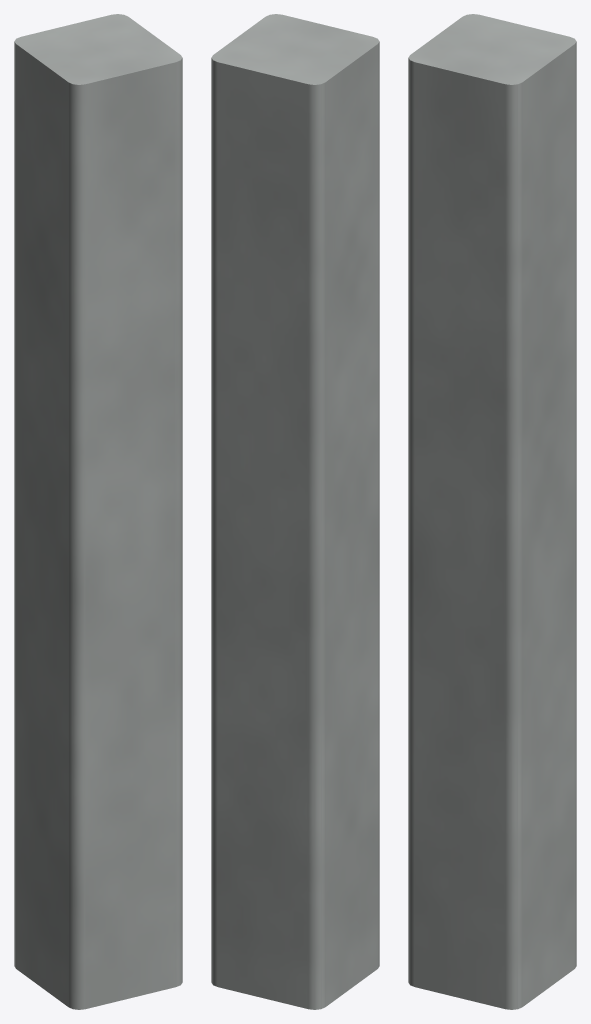
Rendered from plain.obj.
3 views of the same model, side by side, from view 1: azimuth 30°, elevation 25°; view 2: azimuth 150°, elevation 25°; view 3: azimuth 330°, elevation 25° (orthographic).
Parts seen in each view (by area): view 1: shaft; view 2: shaft; view 3: shaft.
Part boxes in pixels (x1,y1,x2,y2): shaft: (14, 14, 182, 1009); shaft: (211, 14, 379, 1009); shaft: (408, 14, 576, 1009).
Bounding box in the file's own units: 0.127 × 1 × 0.127.
